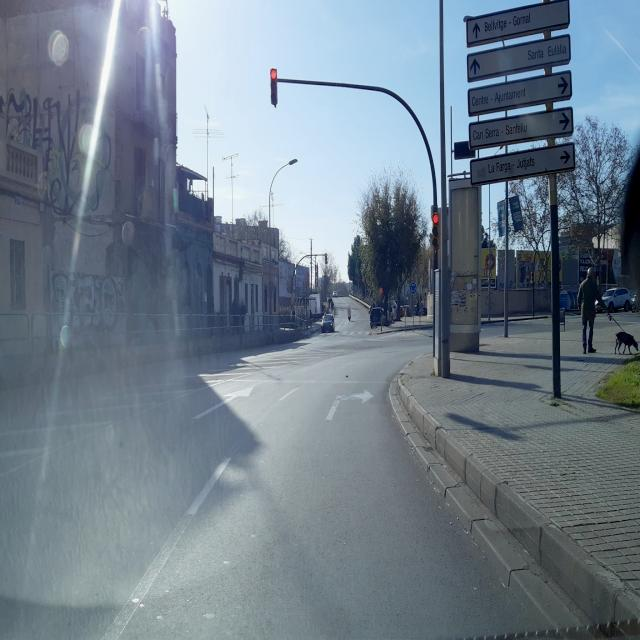car: (601, 286, 632, 313), (321, 312, 335, 334), (629, 288, 640, 314)
